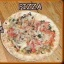pizza: (1, 10, 58, 59)
